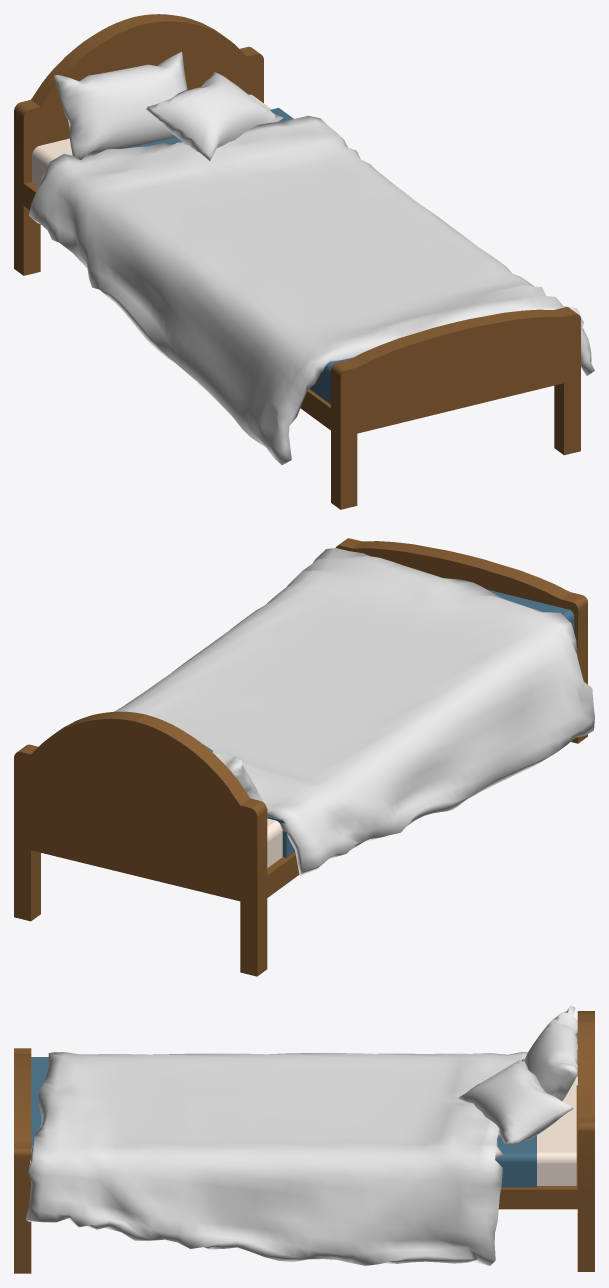
The model's file is bed.fbx.
3 views of the same model, one above another, from view 1: azimuth 30°, elevation 25°; view 2: azimuth 150°, elevation 25°; view 3: azimuth 270°, elevation 25° (orthographic). The views are drawn at different scales.
Parts seen in each view (by area): view 1: Duvet, Bedframe, Pillow1, Pillow2, mattress, sheet; view 2: Duvet, Bedframe, sheet, Pillow1, mattress; view 3: Duvet, Bedframe, Pillow2, Pillow1, mattress, sheet.
Boxes of the visible parts, x1,y1,x2,y2 form: Duvet: (29, 115, 594, 464); Bedframe: (14, 14, 580, 509); Pillow1: (54, 51, 187, 159); Pillow2: (146, 72, 282, 160); mattress: (32, 94, 271, 186); sheet: (86, 108, 352, 404); Duvet: (115, 548, 594, 875); Bedframe: (14, 538, 587, 976); sheet: (267, 589, 574, 857); Pillow1: (212, 752, 268, 810); mattress: (267, 818, 282, 867); Duvet: (25, 1051, 527, 1265); Bedframe: (14, 1011, 594, 1273); Pillow2: (458, 1058, 573, 1145); Pillow1: (524, 1005, 577, 1100); mattress: (537, 1077, 576, 1185); sheet: (31, 1057, 536, 1187).
Bounding box in the file's own units: 1.2 × 0.8165 × 2.15.
